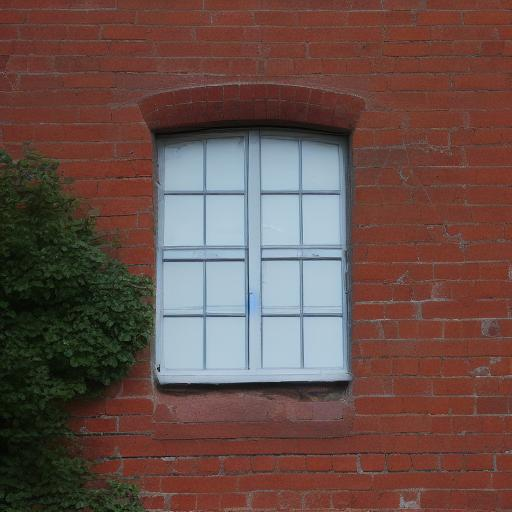Window: (138, 82, 367, 395)
